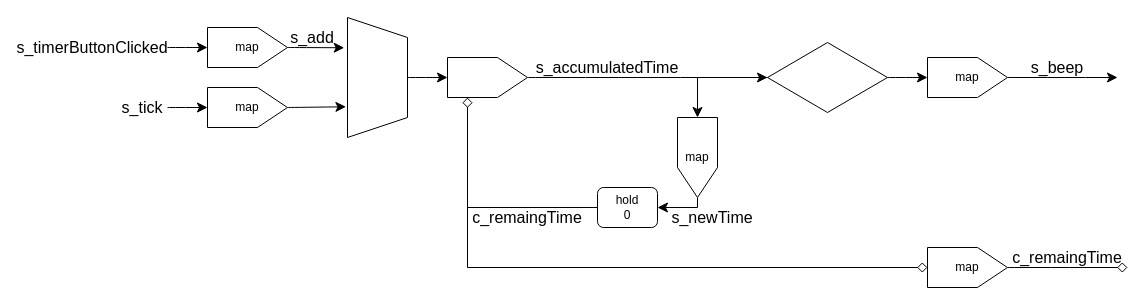
Some shapes in this 1145 by 305 pixel diagram are drawn without their labels. Each missing label, with the centre of its shape:
"filter === 0" goes at (827,77).
"merge" goes at (377,77).
"snapshot" goes at (487,77).
